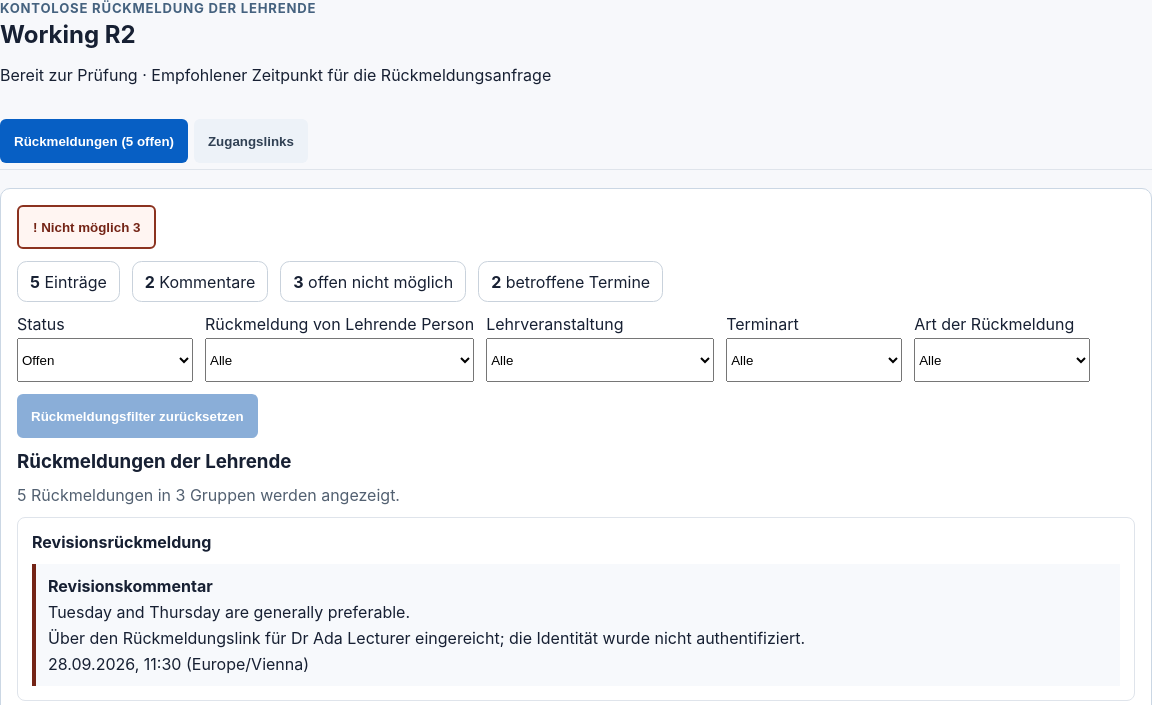
Test case: LecturerReviewManagement planner feedback filter › filters immutable items before regrouping and derives all four counters from the same scope
Expected: the element with class "coordination-counters" reads "5 Einträge 2 Kommentare 3 offen nicht möglich 2 betroffene Termine", 17,261 -> 663,302
Select "Terminkommentar" in the dropdown labelled "Art der Rückmeldung": (1002, 360) 914,338 -> 1090,382
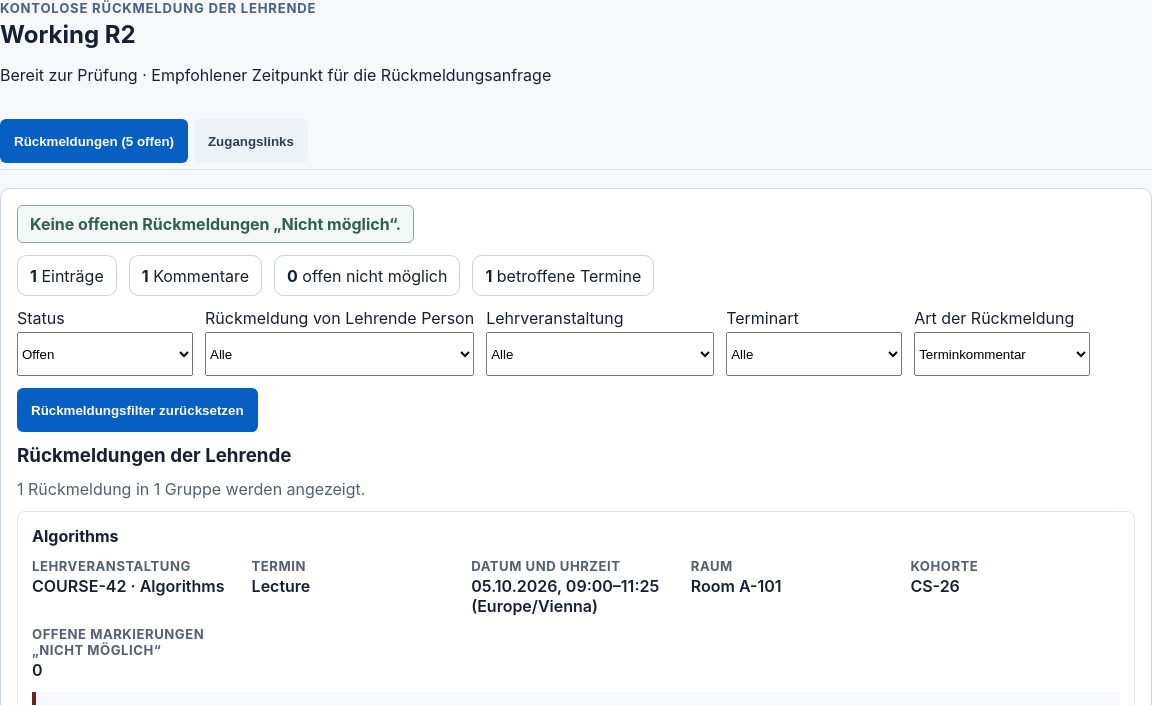
Now the element with class "coordination-counters" reads "1 Einträge 1 Kommentare 0 offen nicht möglich 1 betroffene Termine", box 17,255 -> 654,296
Now the text "Tuesday and Thursday are generally preferable." is gone
Select "COURSE-42 · Algorithms" in the dropdown labelled "Lehrveranstaltung": (600, 354) 486,332 -> 714,376
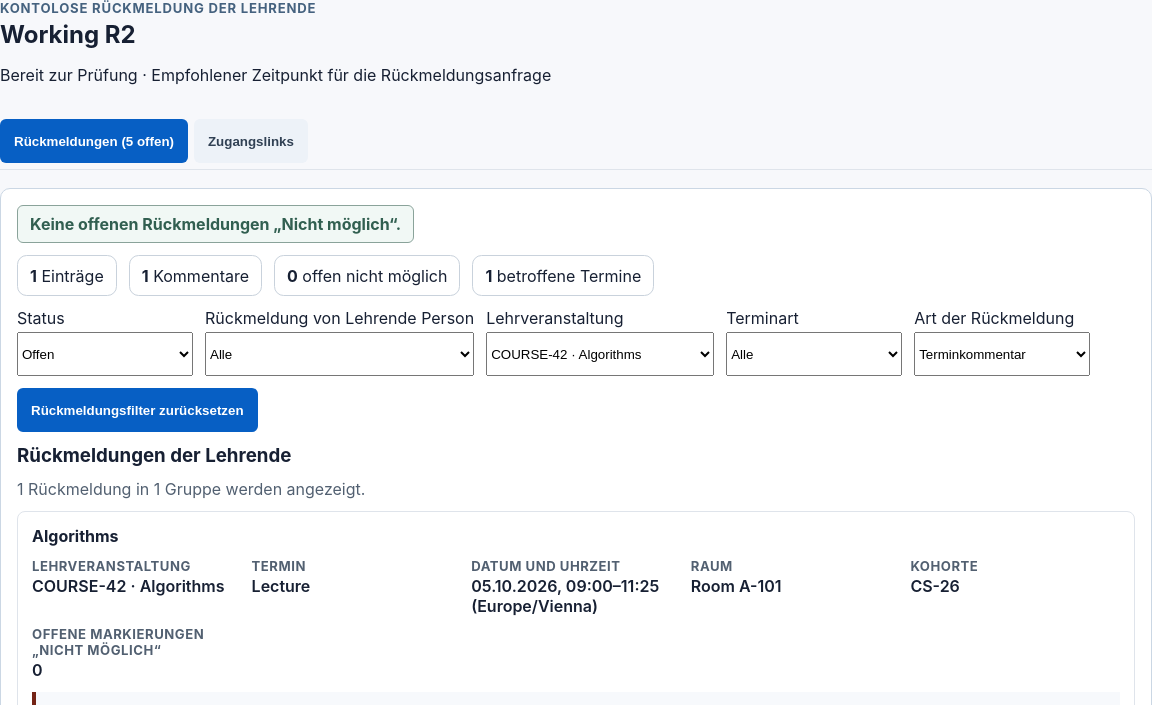
Click the button "Rückmeldungsfilter zurücksetzen": (137, 410) 17,388 -> 258,432
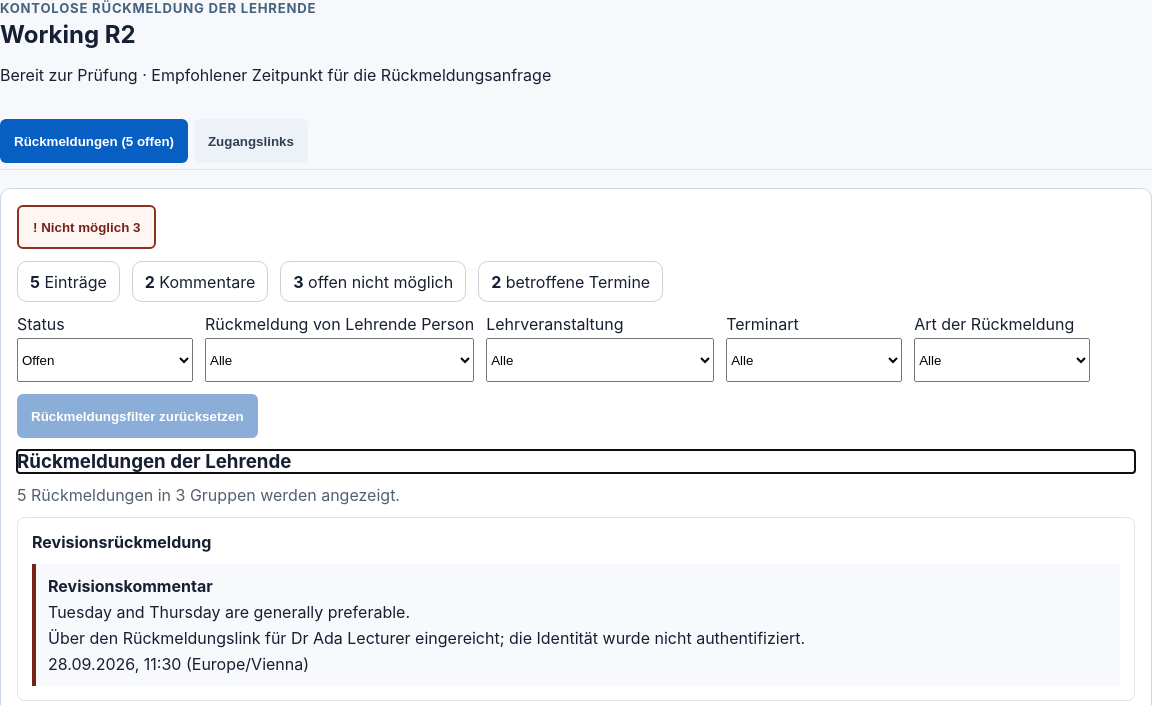
Now the element with class "coordination-counters" reads "5 Einträge 2 Kommentare 3 offen nicht möglich 2 betroffene Termine", box 17,261 -> 663,302
Now the text "Tuesday and Thursday are generally preferable." is shown, box 48,602 -> 410,622
